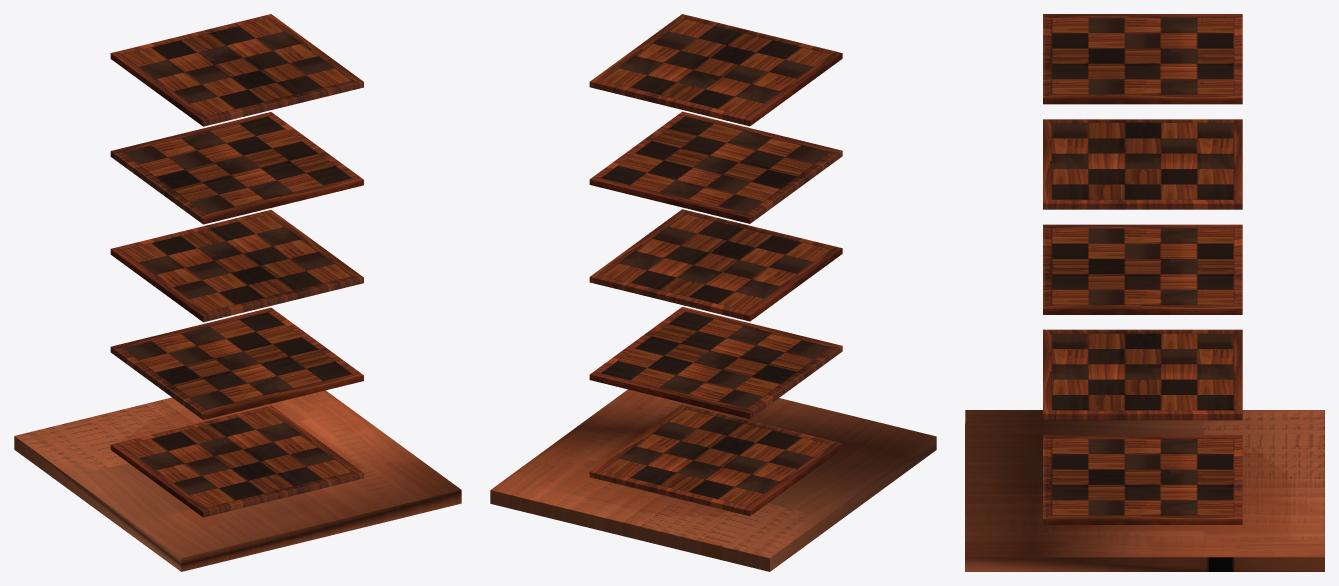
File: SpaceChess.fbx
The picture shows the model from 3 angles, left to right: view 1: azimuth 30°, elevation 25°; view 2: azimuth 150°, elevation 25°; view 3: azimuth 270°, elevation 25°; orthographic projection. The views are drawn at different scales.
Parts seen in each view (by area): view 1: ChessBoard_LP.006; view 2: ChessBoard_LP.006; view 3: ChessBoard_LP.006.
Part boxes in pixels (<box>): ChessBoard_LP.006: <box>14,14,461,571</box>; ChessBoard_LP.006: <box>490,14,936,571</box>; ChessBoard_LP.006: <box>965,14,1324,571</box>.
Size of the model in its own units: 240 by 335 by 248.
